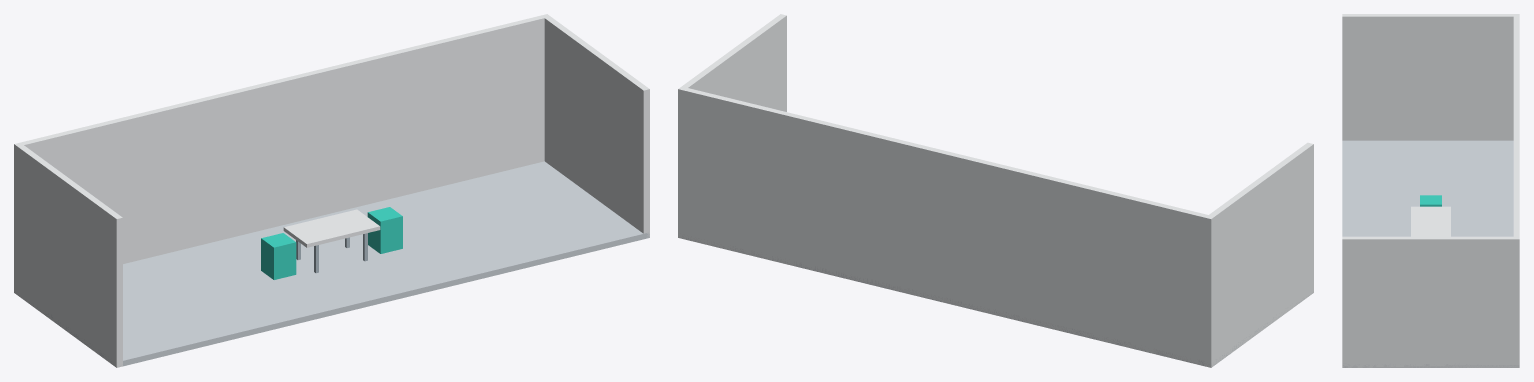
3 renders of one model, left to right at view 1: azimuth 30°, elevation 25°; view 2: azimuth 150°, elevation 25°; view 3: azimuth 270°, elevation 25°, orthographic. The views are drawn at different scales.
Visible parts, largest first — view 1: Exhibition Booth Concept; view 2: Exhibition Booth Concept; view 3: Exhibition Booth Concept.
Part boxes in pixels (x1,y1,x2,y2): Exhibition Booth Concept: (14,14,649,367); Exhibition Booth Concept: (678,14,1313,367); Exhibition Booth Concept: (1342,14,1519,367).
Bounding box in the file's own units: 12 × 3.2 × 4.
